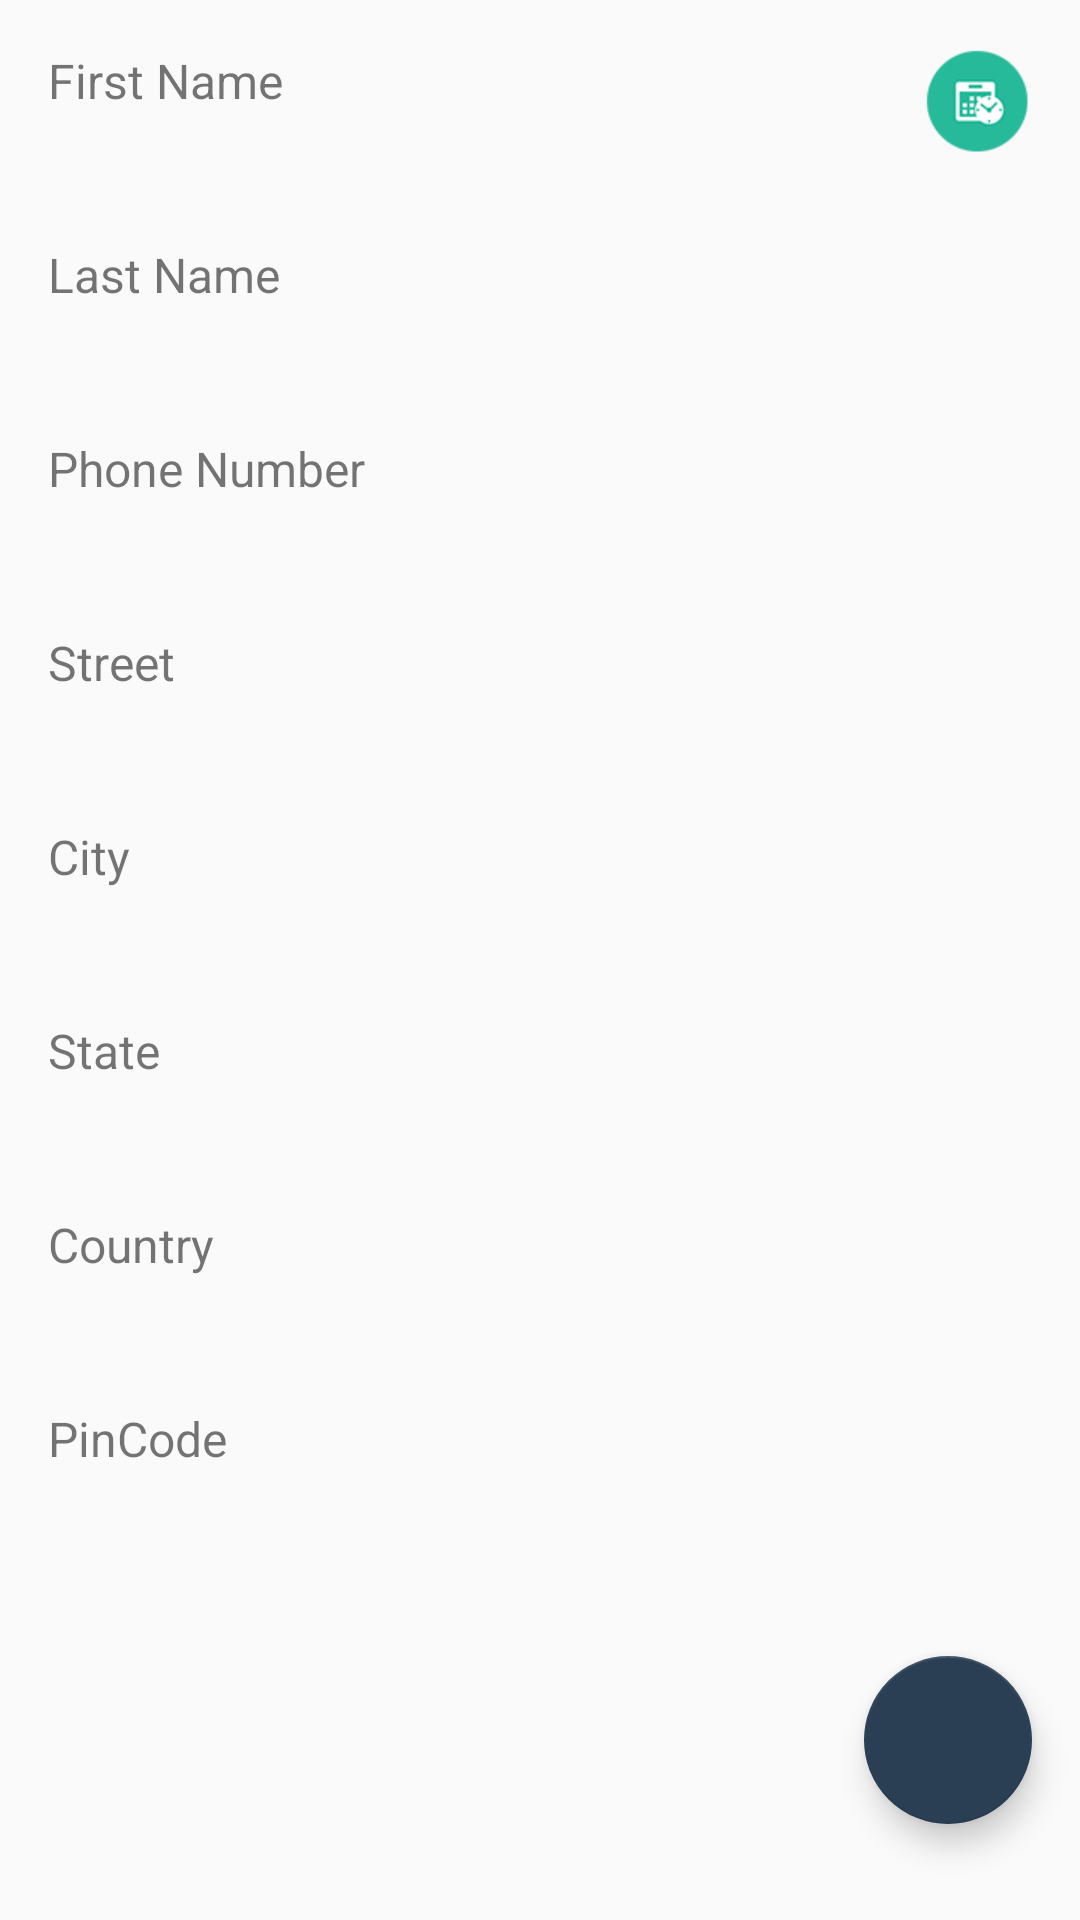

Where icons sit on this 1080w x 1920h app screen, as (x1, y1, x2, y2):
schedule: (926, 50, 1028, 152)
